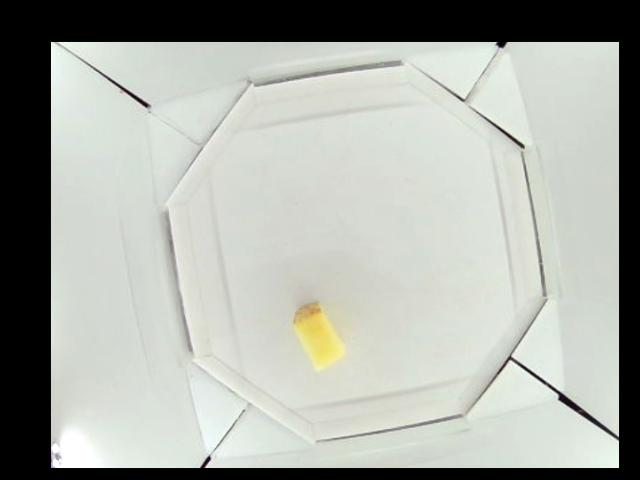Potato: (294, 301, 344, 369)
